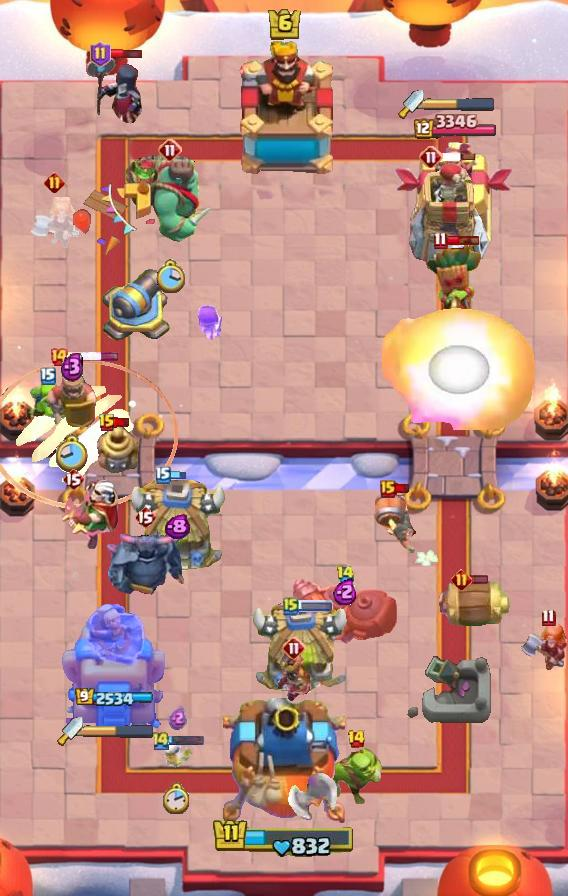bar: (59, 595, 169, 731), (395, 142, 514, 256)
bomber-evolution: (278, 653, 310, 703)
clock: (212, 817, 356, 859)
earthquake: (47, 355, 97, 427)
electro-spirit: (60, 350, 85, 381), (164, 514, 190, 540), (334, 578, 359, 605), (168, 706, 187, 730)
elixir: (56, 434, 89, 474), (155, 259, 185, 295), (163, 782, 191, 816)
emote: (67, 350, 121, 361), (108, 48, 144, 61), (445, 234, 481, 246), (297, 600, 333, 612), (169, 735, 205, 746), (440, 152, 476, 162), (169, 469, 187, 481), (470, 574, 489, 585), (114, 416, 131, 427), (394, 483, 411, 494)
flying-machine: (325, 748, 387, 804)
goblin: (193, 303, 223, 343)
goblin-barrel: (424, 242, 484, 322)
goblin-drill: (96, 423, 142, 475)
golemite: (103, 528, 187, 600)
heal-spirit: (160, 739, 194, 771)
hog-rider: (28, 197, 80, 249), (518, 624, 568, 672)
ice-wizard: (0, 359, 178, 509)
king-tower: (228, 41, 340, 181), (223, 698, 345, 826)
king-tower-bar: (424, 97, 496, 111), (83, 724, 155, 738)
knight: (373, 491, 423, 555)
lava-hound: (123, 152, 217, 246)
prince: (126, 480, 228, 576), (250, 602, 352, 698)
rascal-boy: (84, 54, 144, 128)
royal-giant: (284, 773, 338, 833)
royal-recruit: (99, 263, 173, 349)
selected: (412, 114, 497, 141), (74, 688, 154, 708)
skeleton-king: (59, 478, 119, 554)
text: (158, 138, 182, 162), (419, 145, 443, 169), (282, 636, 306, 660), (89, 41, 110, 67), (62, 467, 84, 491), (134, 505, 156, 529), (43, 171, 64, 193), (451, 569, 472, 590), (151, 729, 171, 751), (49, 347, 69, 367), (347, 729, 366, 749), (98, 413, 116, 433), (336, 565, 356, 583), (283, 596, 299, 616), (40, 367, 56, 385), (155, 466, 171, 484), (380, 480, 396, 498), (541, 609, 556, 627), (433, 231, 447, 249)
the-log: (435, 580, 511, 630)
valkyrie: (380, 308, 536, 430)
wizard: (289, 576, 401, 646)
zap: (24, 375, 72, 420)
zappy: (405, 161, 490, 277)
